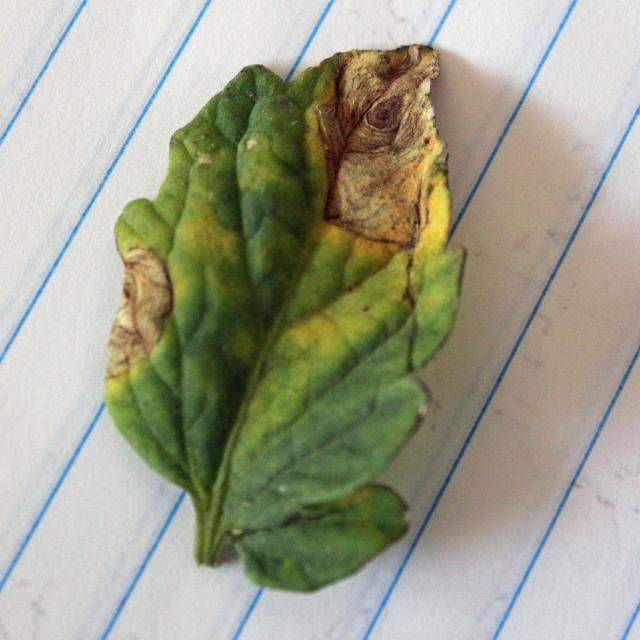leaf blight: (98, 44, 470, 593)
